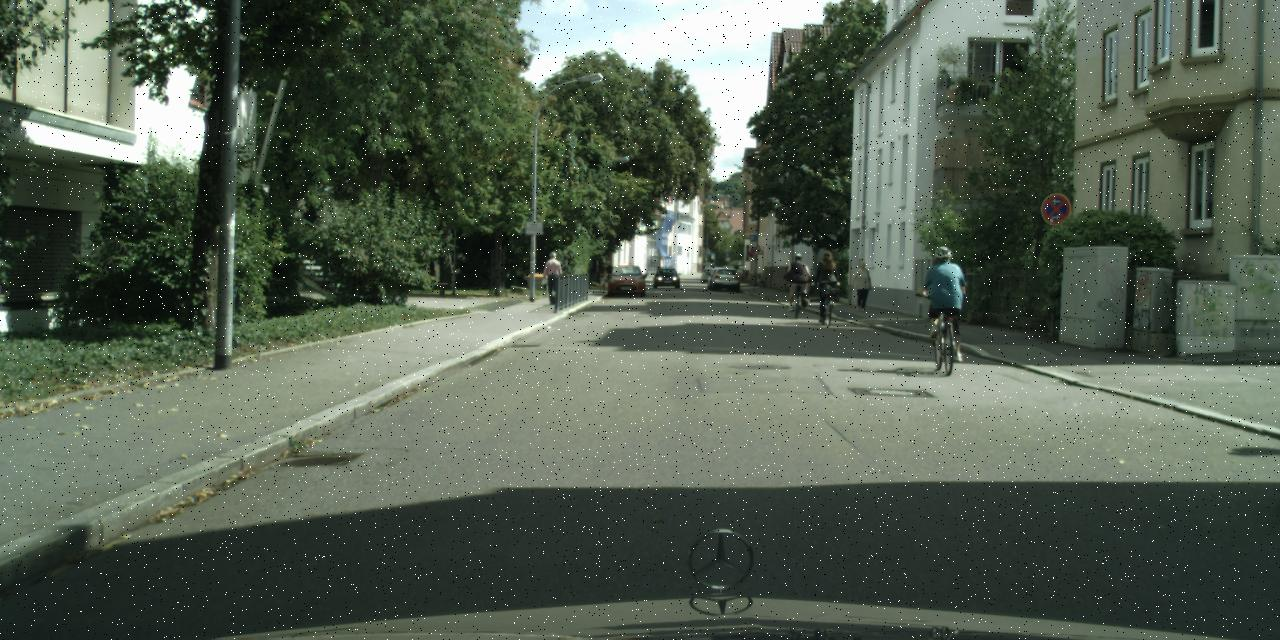ped: (924, 244, 966, 346), (813, 252, 839, 314), (786, 252, 810, 309), (542, 250, 563, 304), (851, 260, 871, 309), (602, 260, 614, 289), (732, 260, 739, 280), (598, 273, 605, 291)
